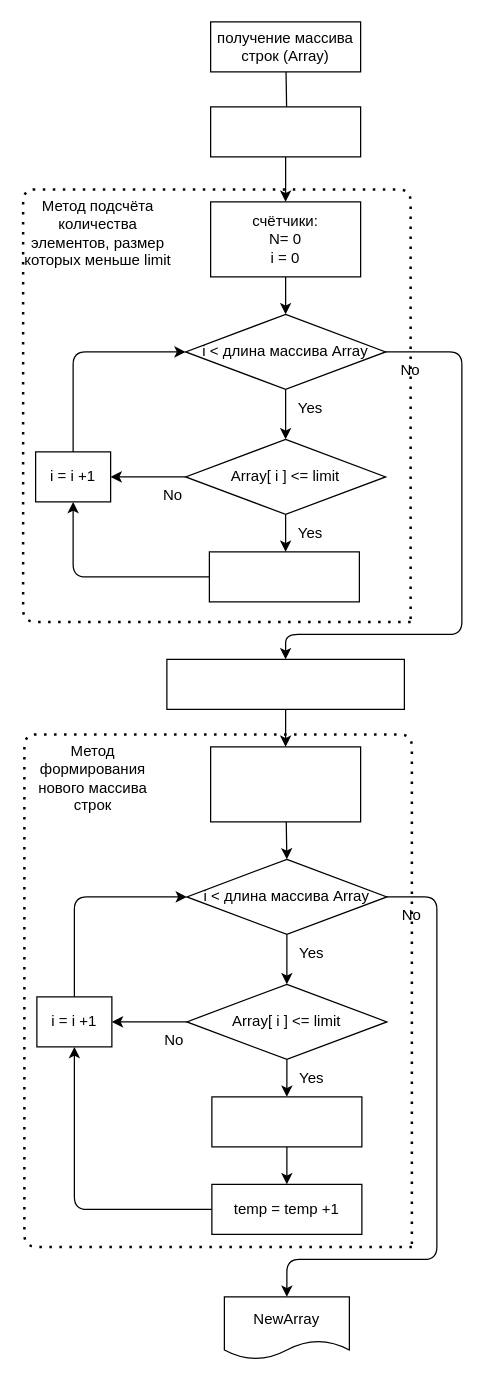
The diagram is 494 pixels wide and 1381 high, and some of its shapes have lost their labels. The shapes that lost their labels are listed below. From the top down, each one's box as (x1, y1, x2, y2) in pixels, then its label:
(209, 106, 361, 157): limit = 3
(208, 551, 359, 602): N = N +1
(166, 658, 404, 709): инициализация нового массива(NewArray), размером N
(209, 746, 361, 822): счётчики: temp = 0 i = 0
(211, 1096, 362, 1147): NewArray[ temp] = array[ i ]
